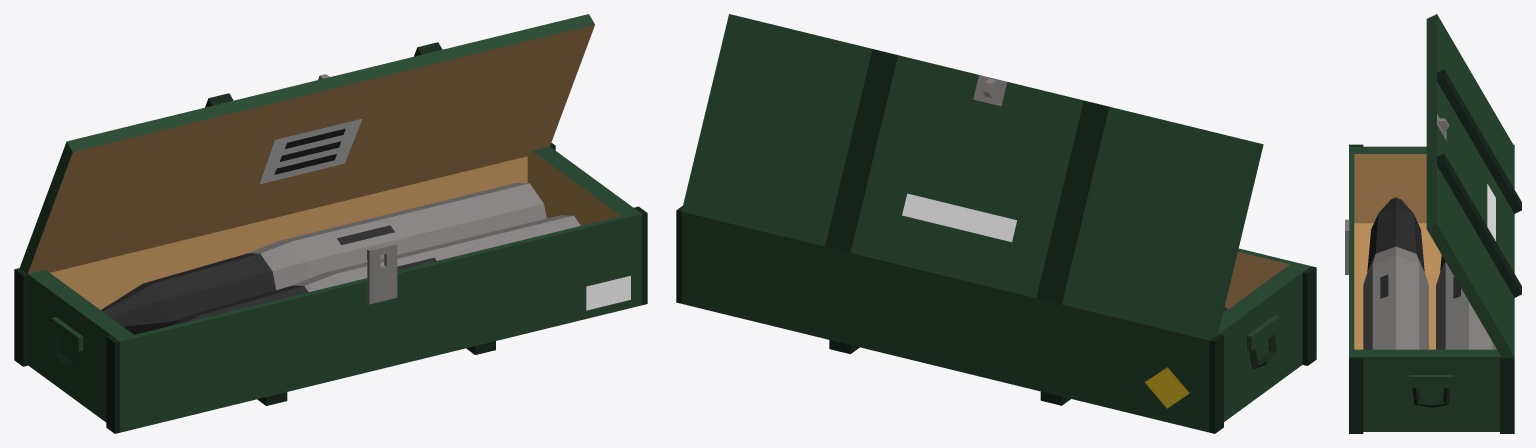
File: weapons_crate-army-rocket-open.fbx
3 renders of one model, left to right at view 1: azimuth 30°, elevation 25°; view 2: azimuth 150°, elevation 25°; view 3: azimuth 270°, elevation 25°, orthographic. The views are drawn at different scales.
Parts seen in each view (by area): view 1: weapons_crate_army_rocket_open; view 2: weapons_crate_army_rocket_open; view 3: weapons_crate_army_rocket_open.
Part boxes in pixels (<box>): weapons_crate_army_rocket_open: <box>14,14,647,433</box>; weapons_crate_army_rocket_open: <box>676,14,1316,433</box>; weapons_crate_army_rocket_open: <box>1345,14,1521,433</box>.
Bounding box in the file's own units: 200 × 94.47 × 69.17.
